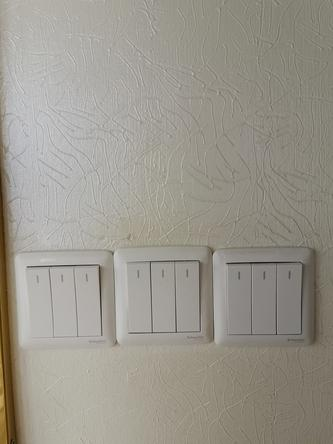switch: (271, 260, 309, 337), (69, 262, 106, 340), (121, 258, 157, 337), (169, 257, 205, 335), (222, 258, 256, 338), (23, 264, 57, 341), (45, 265, 79, 341), (149, 258, 181, 334), (249, 258, 279, 337)
